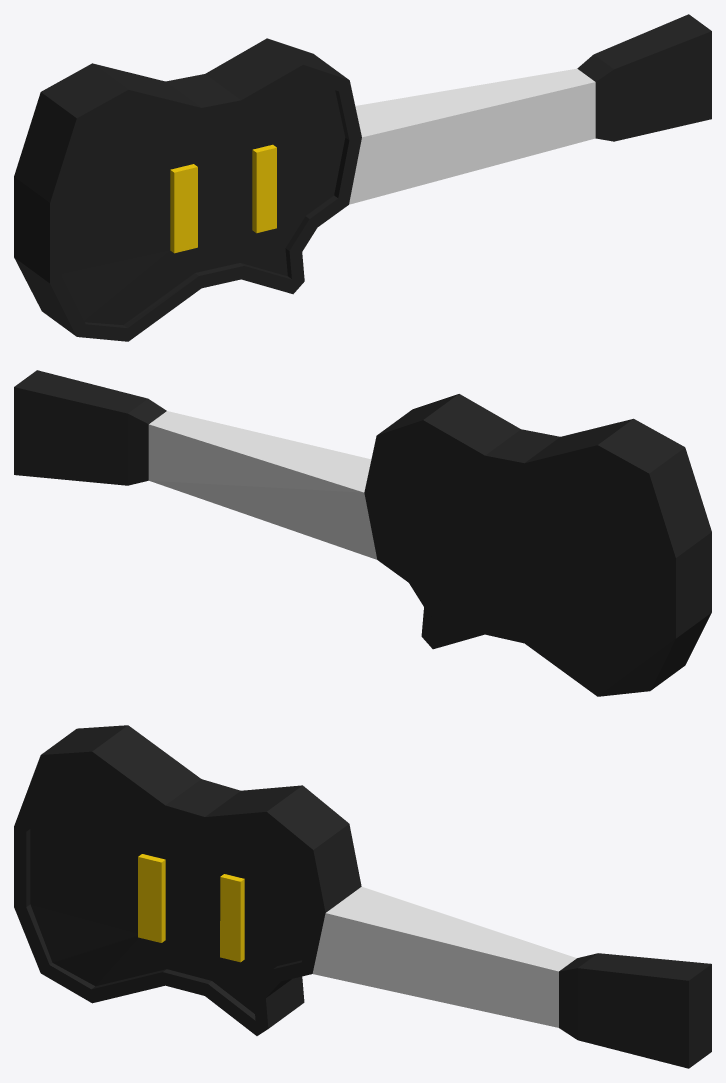
Rendered from Solo_guitar.fbx.
3 renders of one model, top to bottom at view 1: azimuth 30°, elevation 25°; view 2: azimuth 150°, elevation 25°; view 3: azimuth 330°, elevation 25°, orthographic.
Visible parts, largest first — view 1: Solo; view 2: Solo; view 3: Solo.
Part boxes in pixels (x1,y1,x2,y2): Solo: [14, 14, 711, 341]; Solo: [14, 370, 711, 696]; Solo: [14, 725, 711, 1068].
Size of the model in its own units: 217 by 78.13 by 20.3.
